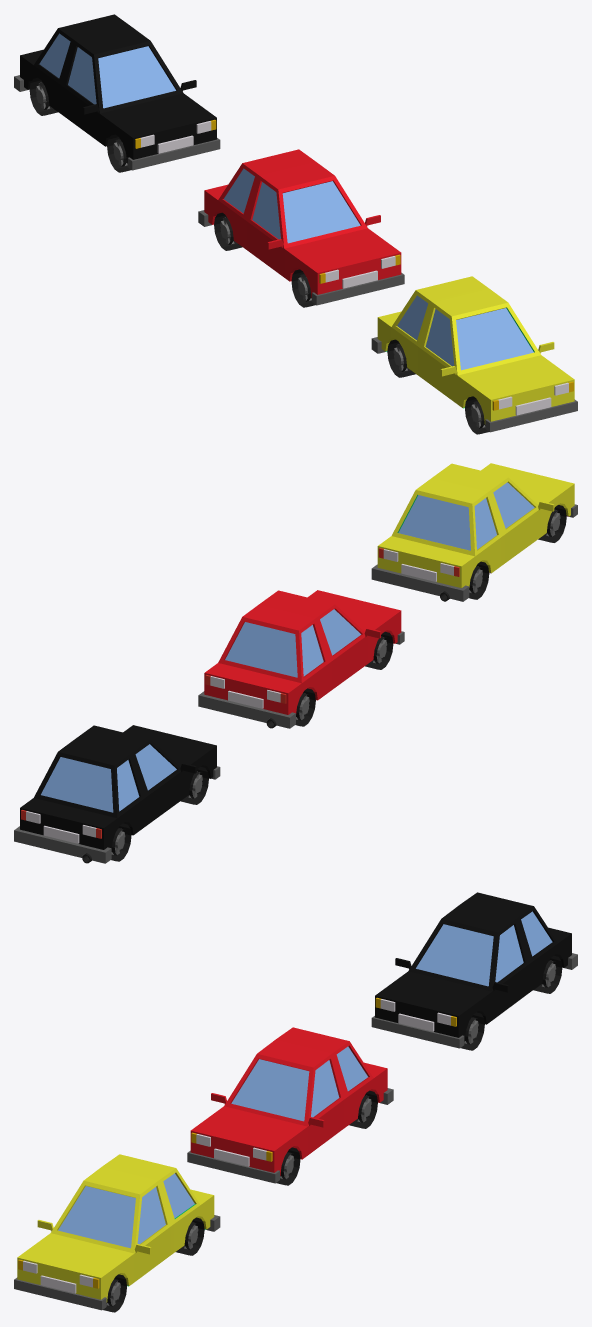
The model's file is car2.glb.
3 views of the same model, one above another, from view 1: azimuth 30°, elevation 25°; view 2: azimuth 150°, elevation 25°; view 3: azimuth 330°, elevation 25° (orthographic).
Visible parts, largest first — view 1: zar.001, zar, zar.002, Cylinder.002, Cylinder.008, Cylinder.004, Cylinder.001, Cylinder.003, Cylinder.007; view 2: zar, zar.001, zar.002, Cylinder.003, Cylinder.001, Cylinder.007, Cylinder.008, Cylinder.002, Cylinder.004; view 3: zar.001, zar, zar.002, Cylinder.002, Cylinder.004, Cylinder.008, Cylinder.001, Cylinder.003, Cylinder.007.
Part boxes in pixels (bbox=[...]): zar.001: bbox=[198, 149, 404, 305]; zar: bbox=[371, 276, 577, 432]; zar.002: bbox=[14, 14, 220, 170]; Cylinder.002: bbox=[387, 339, 415, 377]; Cylinder.008: bbox=[29, 77, 57, 115]; Cylinder.004: bbox=[214, 212, 242, 250]; Cylinder.001: bbox=[465, 396, 488, 434]; Cylinder.003: bbox=[291, 269, 315, 307]; Cylinder.007: bbox=[107, 134, 130, 172]; zar: bbox=[371, 463, 577, 601]; zar.001: bbox=[198, 590, 404, 728]; zar.002: bbox=[14, 725, 220, 863]; Cylinder.003: bbox=[365, 631, 393, 669]; Cylinder.001: bbox=[538, 505, 566, 542]; Cylinder.007: bbox=[180, 766, 208, 804]; Cylinder.008: bbox=[111, 823, 131, 861]; Cylinder.002: bbox=[469, 561, 489, 599]; Cylinder.004: bbox=[295, 688, 315, 726]; zar.001: bbox=[187, 1027, 393, 1183]; zar: bbox=[14, 1154, 220, 1310]; zar.002: bbox=[371, 892, 577, 1048]; Cylinder.002: bbox=[176, 1217, 204, 1255]; Cylinder.004: bbox=[349, 1090, 377, 1128]; Cylinder.008: bbox=[533, 955, 562, 993]; Cylinder.001: bbox=[103, 1274, 126, 1312]; Cylinder.003: bbox=[276, 1147, 300, 1185]; Cylinder.007: bbox=[461, 1012, 484, 1050].
Size of the model in its own units: 0.5389 by 0.4011 by 3.94.
